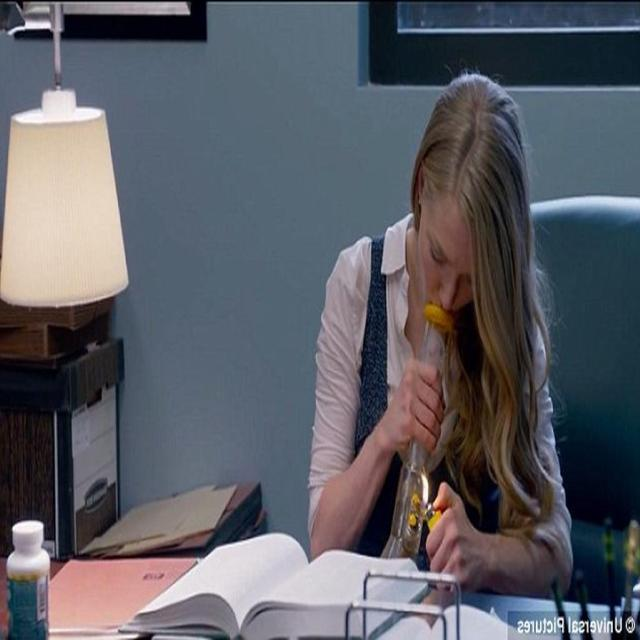smoking: (381, 92, 527, 562)
